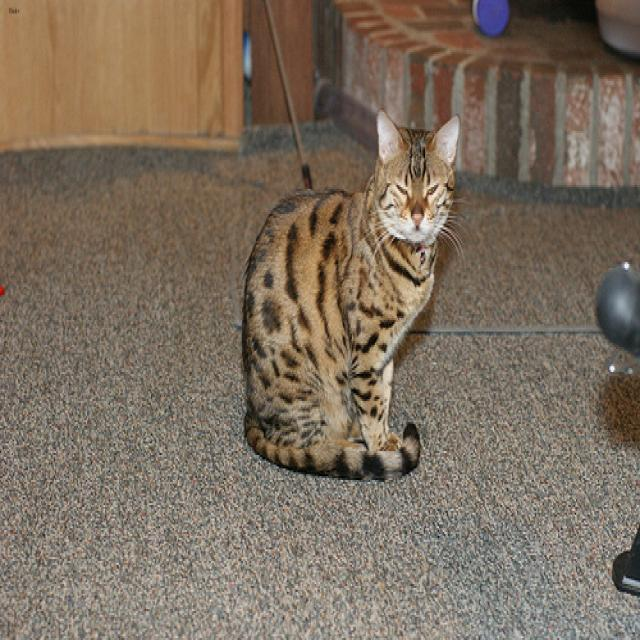Bengal: (370, 105, 465, 248)
